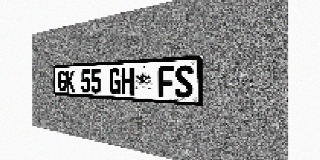5: (81, 69, 91, 93), (91, 69, 101, 93)
F: (158, 66, 174, 97)
G: (109, 68, 121, 94), (58, 70, 66, 92)
H: (121, 68, 134, 95)
K: (66, 70, 74, 92)
S: (175, 65, 193, 98)
